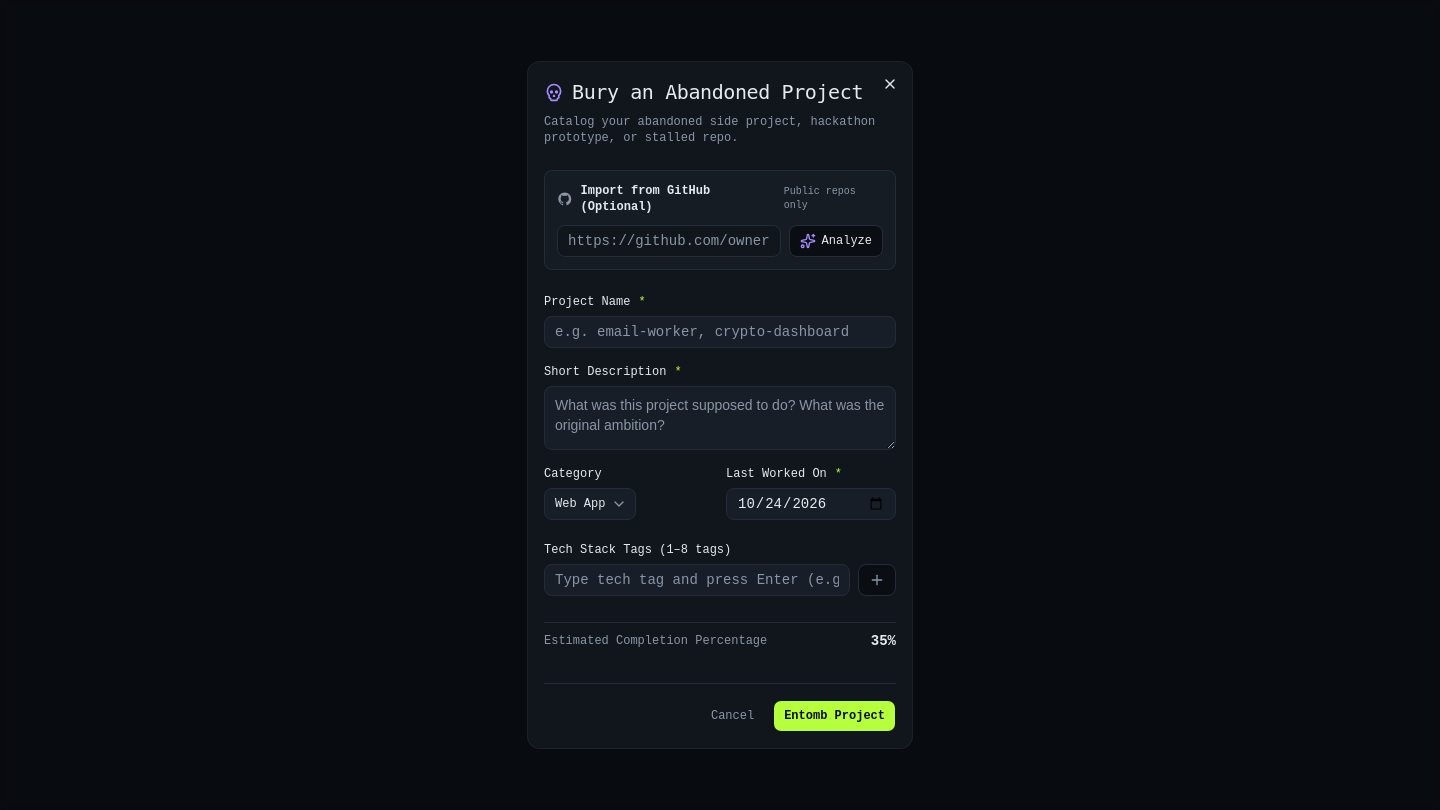
Test: BuryProjectDialog - GitHub Import › displays notice banner when fallback notice is present
In the field with placeholder "https://github.com/owner/repo": (669, 241) [557,225,781,257], type "https://github.com/owner/rate-limited-repo"
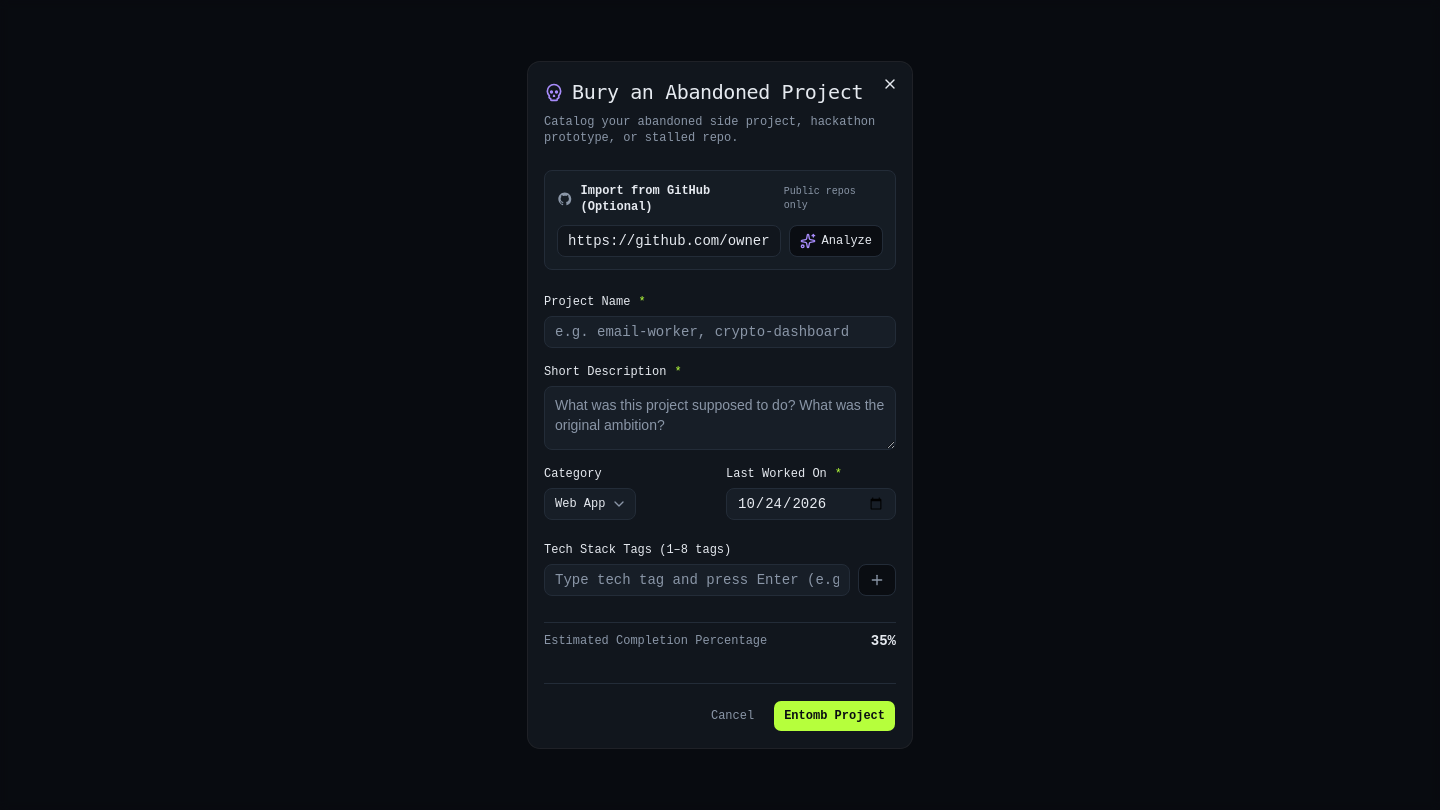
Click the button "Analyze": (836, 241) [789,225,883,257]
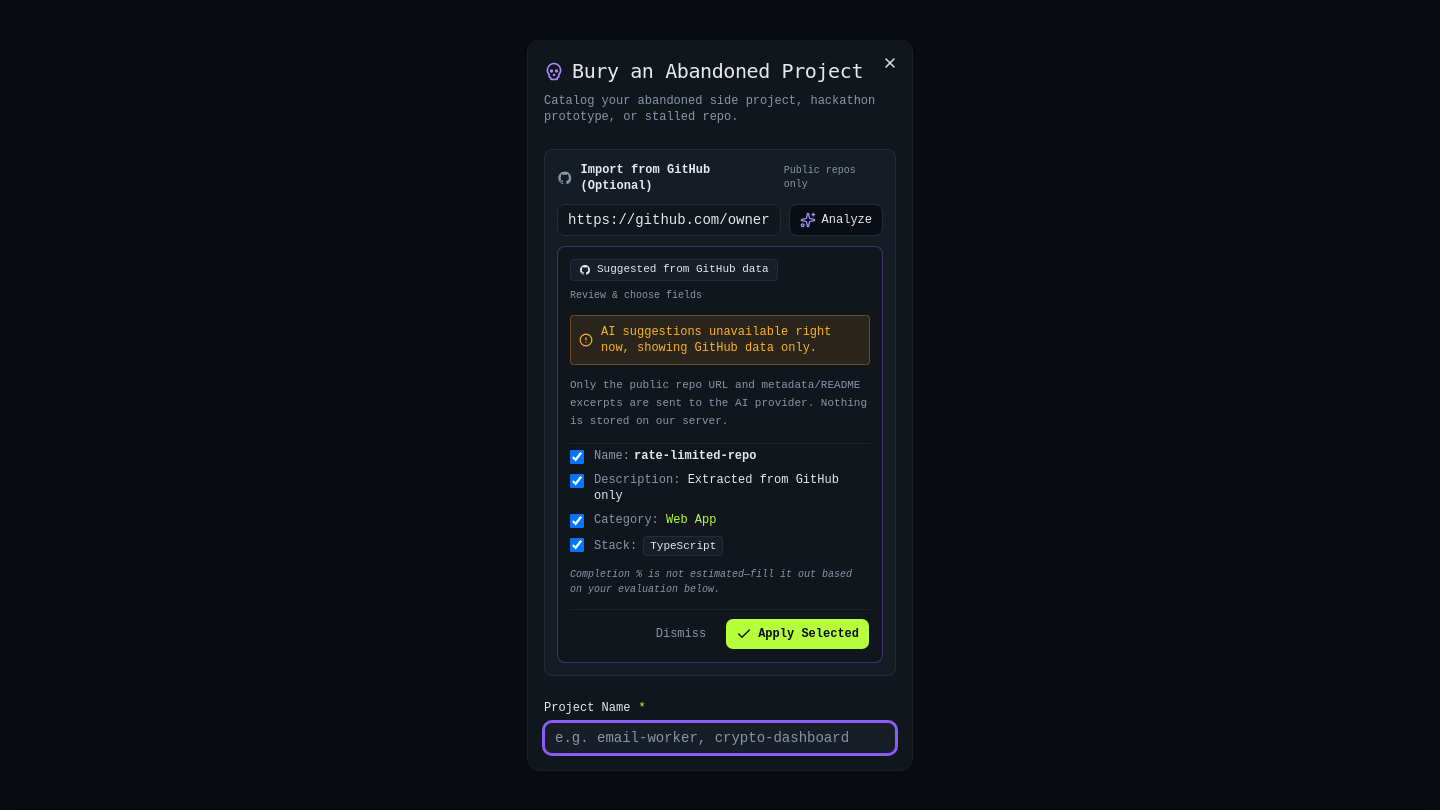
Expected: the text "Suggested from GitHub data" is shown, [570,258,778,280]
Expected: the text "AI suggestions unavailable right now, showing GitHub data only." is shown, [601,324,861,356]
